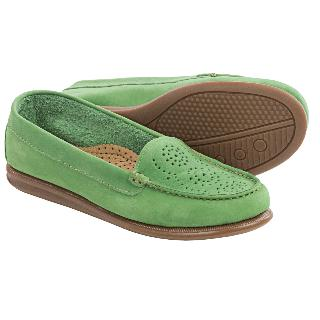loafers: (2, 62, 314, 250)
